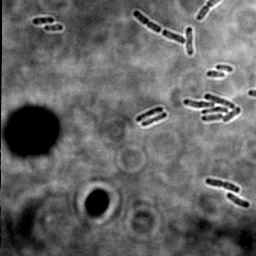Dividing: (132, 9, 163, 35), (204, 177, 241, 192), (139, 111, 168, 128)
Microcolony: (183, 92, 242, 123)
Rod: (134, 105, 164, 123), (226, 191, 251, 211), (161, 28, 187, 44), (184, 26, 196, 56), (31, 15, 55, 26), (42, 23, 65, 33), (216, 62, 234, 73), (205, 70, 227, 79)
